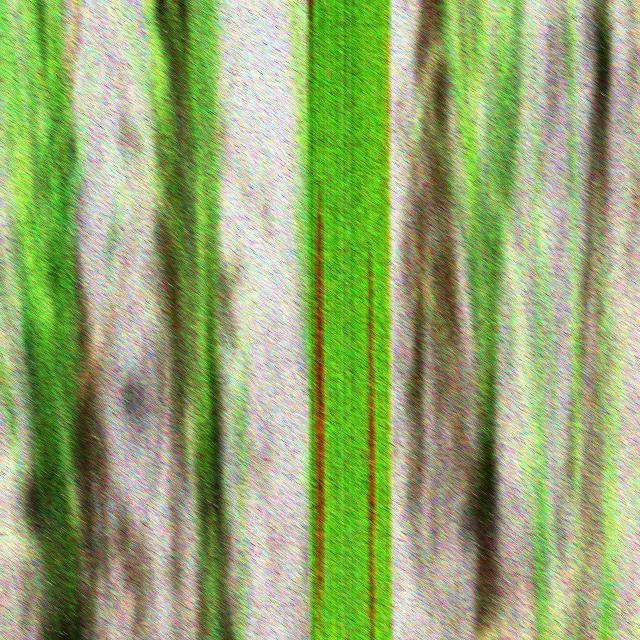NBS: (315, 187, 325, 621), (368, 243, 376, 640), (308, 0, 314, 32)
